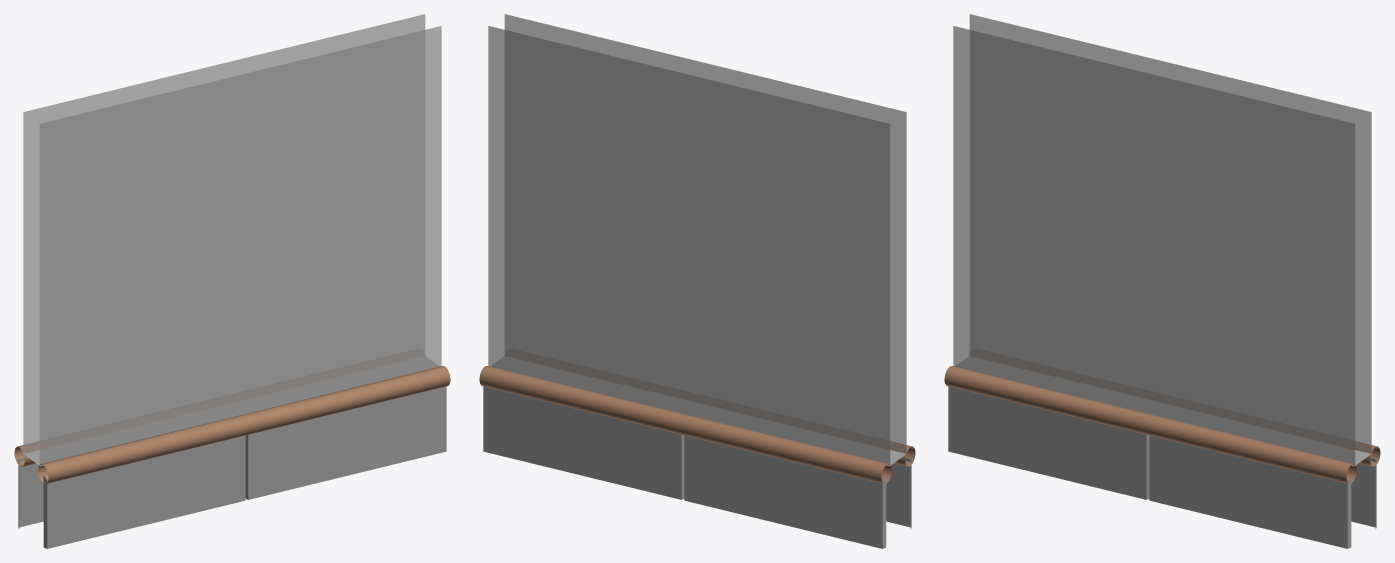
The model's file is wall_window_edge_bottom.fbx.
3 views of the same model, side by side, from view 1: azimuth 30°, elevation 25°; view 2: azimuth 150°, elevation 25°; view 3: azimuth 330°, elevation 25° (orthographic).
Visible parts, largest first — view 1: wall_window_edge_bottom; view 2: wall_window_edge_bottom; view 3: wall_window_edge_bottom.
Part boxes in pixels (x1=…): wall_window_edge_bottom: x1=14, y1=14, x2=450, y2=548; wall_window_edge_bottom: x1=479, y1=14, x2=915, y2=548; wall_window_edge_bottom: x1=944, y1=14, x2=1380, y2=548.
Size of the model in its own units: 200 by 200 by 29.45.
